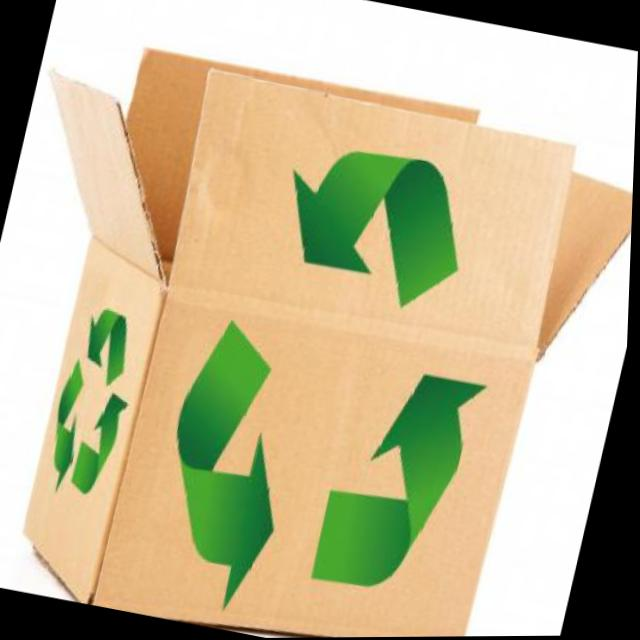box: (0, 2, 640, 640)
